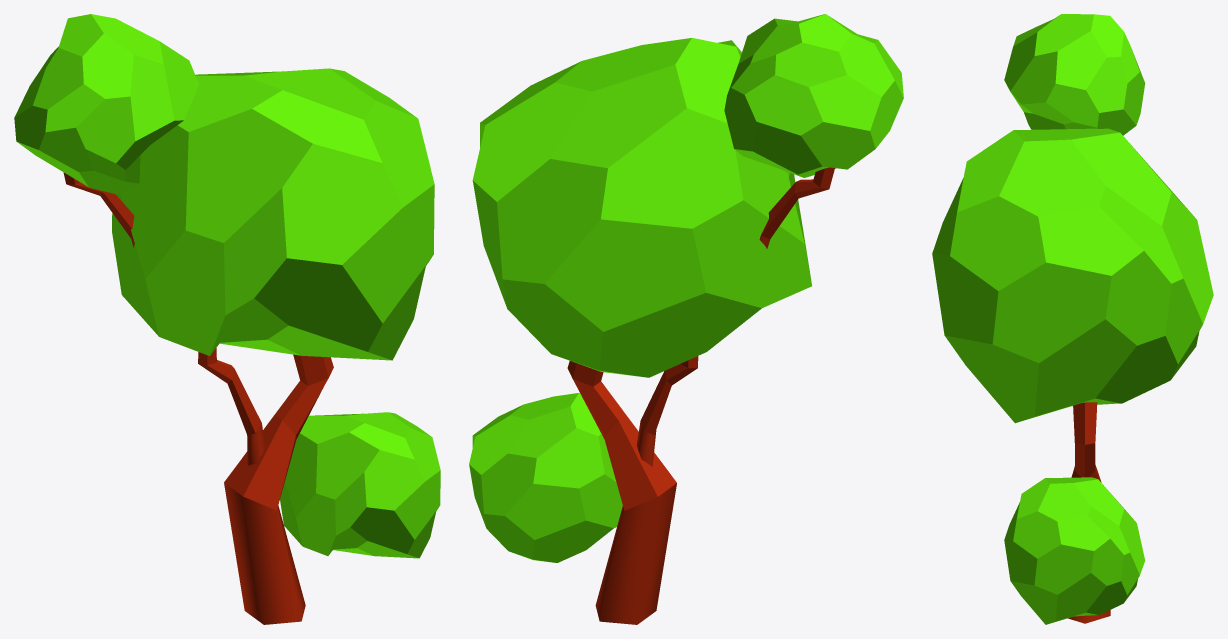
The model's file is arvoremodelo2.FBX.
3 views of the same model, side by side, from view 1: azimuth 30°, elevation 25°; view 2: azimuth 150°, elevation 25°; view 3: azimuth 270°, elevation 25° (orthographic). The views are drawn at different scales.
Parts seen in each view (by area): view 1: Hedra001, Hedra003, Hedra002, Cylinder002, Cylinder003; view 2: Hedra001, Hedra003, Hedra002, Cylinder002, Cylinder003; view 3: Hedra001, Hedra002, Hedra003, Cylinder002.
Boxes of the visible parts, x1,y1,x2,y2 form: Hedra001: [112, 68, 434, 360]; Hedra003: [14, 14, 198, 194]; Hedra002: [280, 412, 440, 558]; Cylinder002: [224, 354, 333, 624]; Cylinder003: [63, 172, 265, 465]; Hedra001: [472, 38, 811, 377]; Hedra003: [724, 14, 903, 177]; Hedra002: [469, 393, 622, 562]; Cylinder002: [567, 361, 676, 624]; Cylinder003: [636, 167, 834, 466]; Hedra001: [932, 128, 1213, 423]; Hedra002: [1004, 477, 1145, 624]; Hedra003: [1004, 14, 1145, 135]; Cylinder002: [1068, 402, 1110, 623].
Size of the model in its own units: 36.34 by 54.79 by 26.61.
